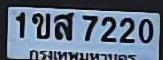0: (138, 18, 152, 42)
1: (15, 11, 24, 37)
2: (100, 16, 115, 41), (119, 17, 134, 42)
7: (82, 14, 97, 40)
A02: (31, 12, 49, 38)
A40: (53, 12, 73, 40)
BKK: (29, 48, 136, 60)
